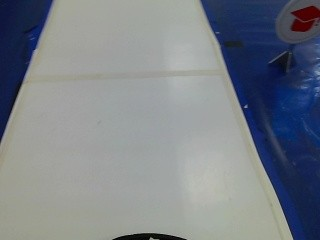school: (272, 0, 318, 40)
